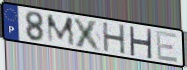8: (23, 10, 45, 42)
E: (155, 30, 180, 64)
H: (128, 25, 154, 61), (101, 21, 127, 56)
M: (45, 13, 77, 47)
X: (72, 16, 104, 53)
